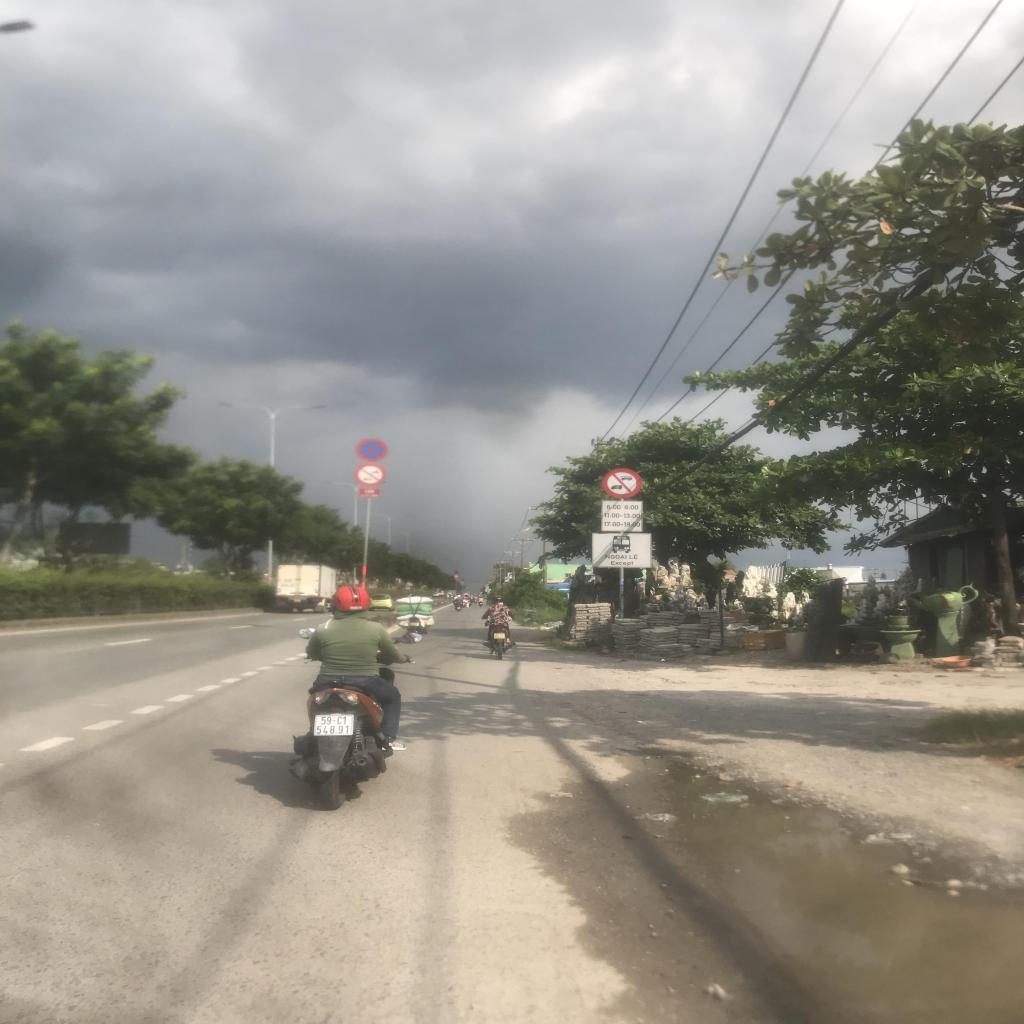cam_dung_xe_va_do_xe: (356, 438, 387, 462)
cam_o_to_tai_va_xe_khach: (598, 470, 641, 498)
cam_xe_2_banh_va_xe_3_banh_co_dong_co: (354, 463, 386, 487)
khac: (592, 533, 652, 568), (600, 501, 643, 532)
